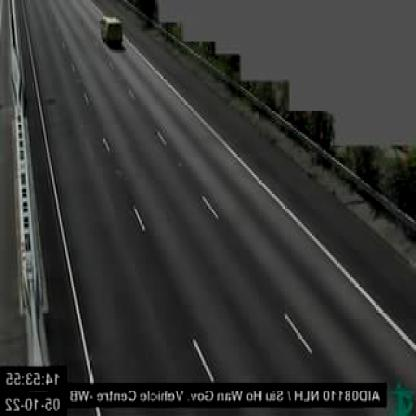Car: (102, 16, 122, 48)
